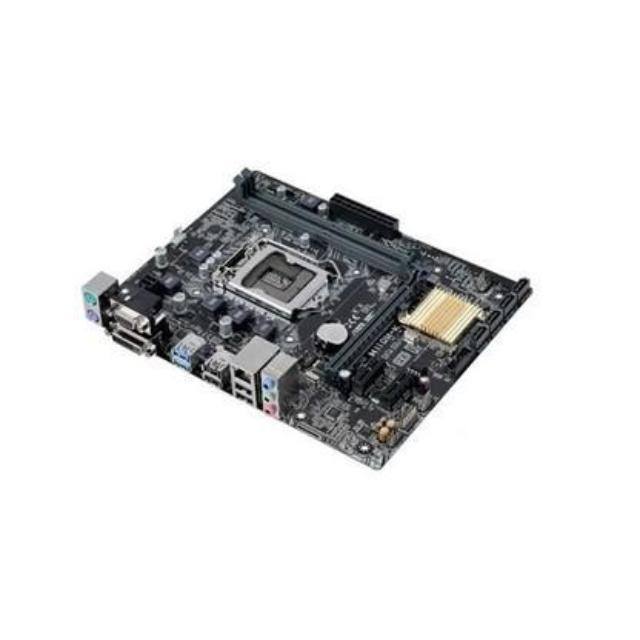Mainboard: (71, 157, 546, 475)
